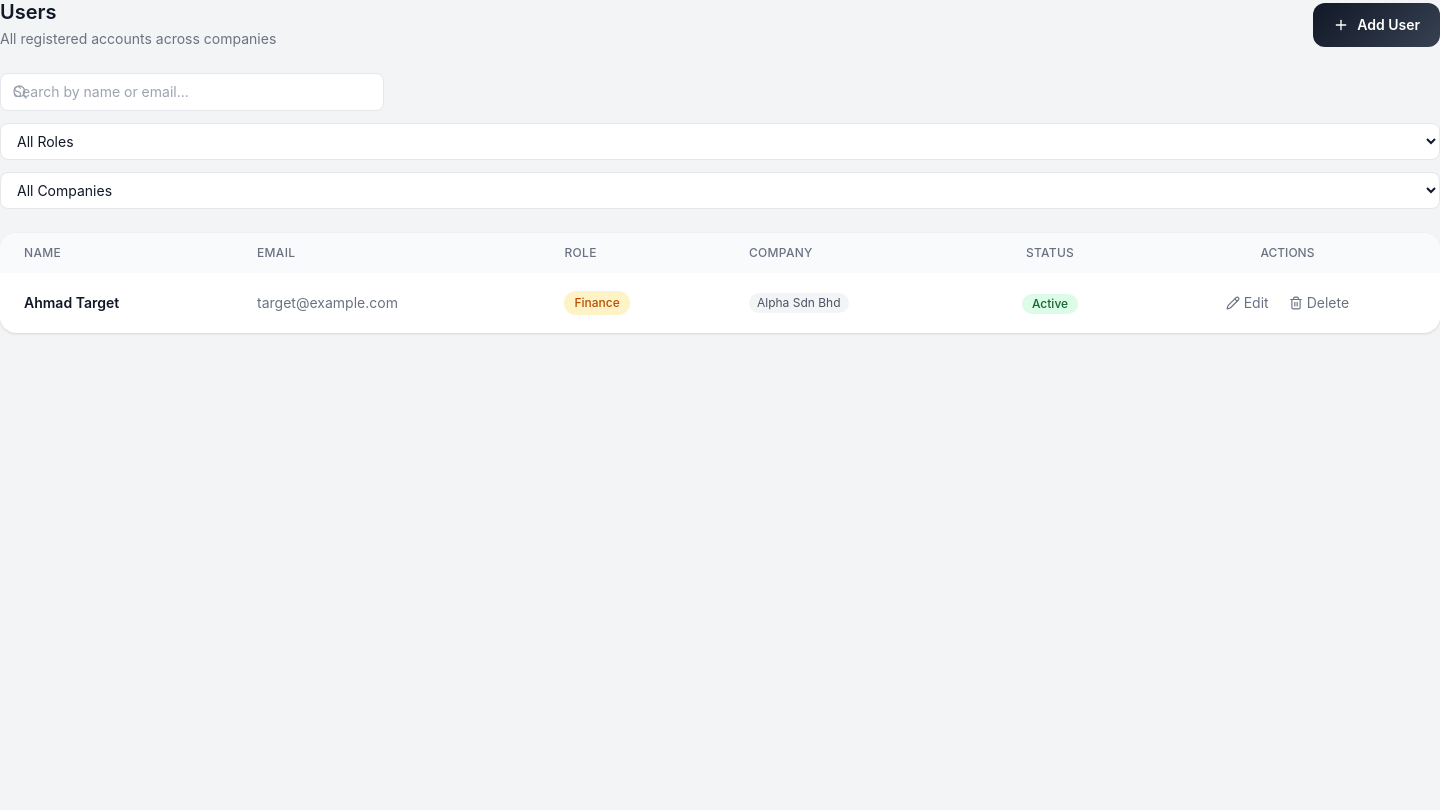
Test case: UserManagement — delete › shows the server error and keeps the dialog open when deletion fails
What coordinates should you click on to do the following:
click the button with aria-label "Delete Ahmad Target"
I would click on:
 (1319, 303)
Its box is [1281,289,1357,317].
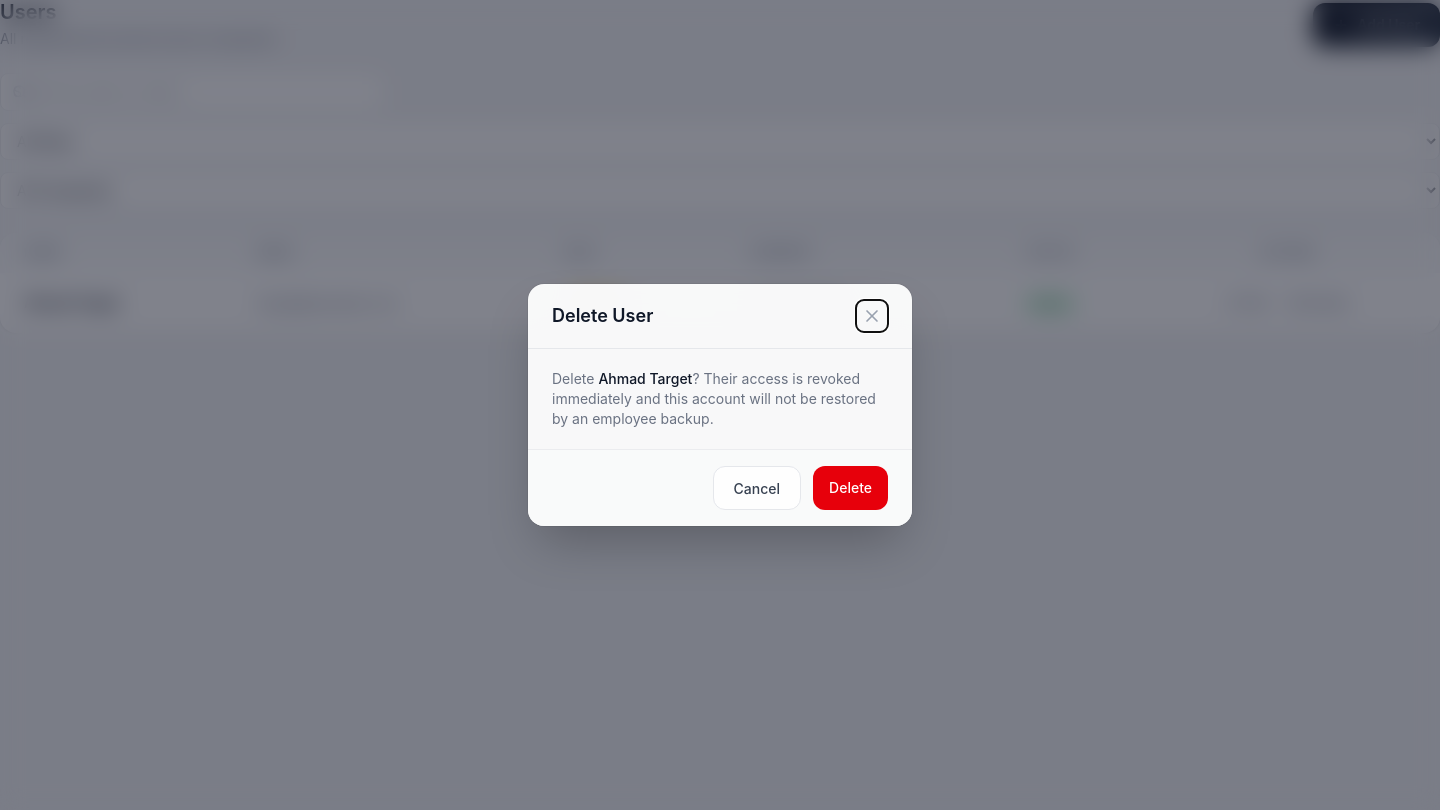
What coordinates should you click on to do the following:
click the button "Delete"
I would click on:
 (851, 488)
Its box is [813,466,888,510].
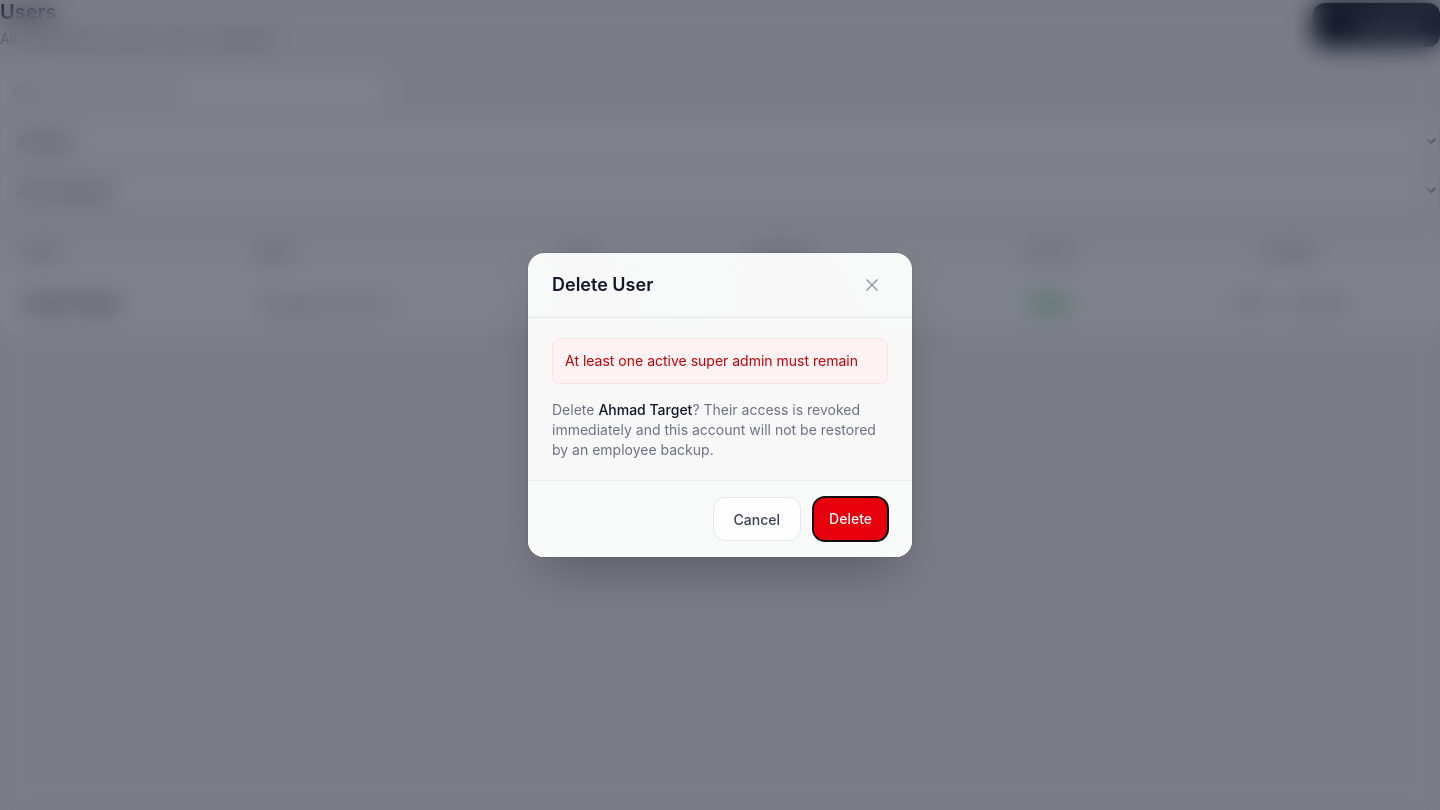
Expected: the dialog is shown, [528,253,912,557]
Expected: the button "Delete" is enabled, [813,497,888,541]
Expected: the message shows "super admin must remain", [565,352,858,369]
